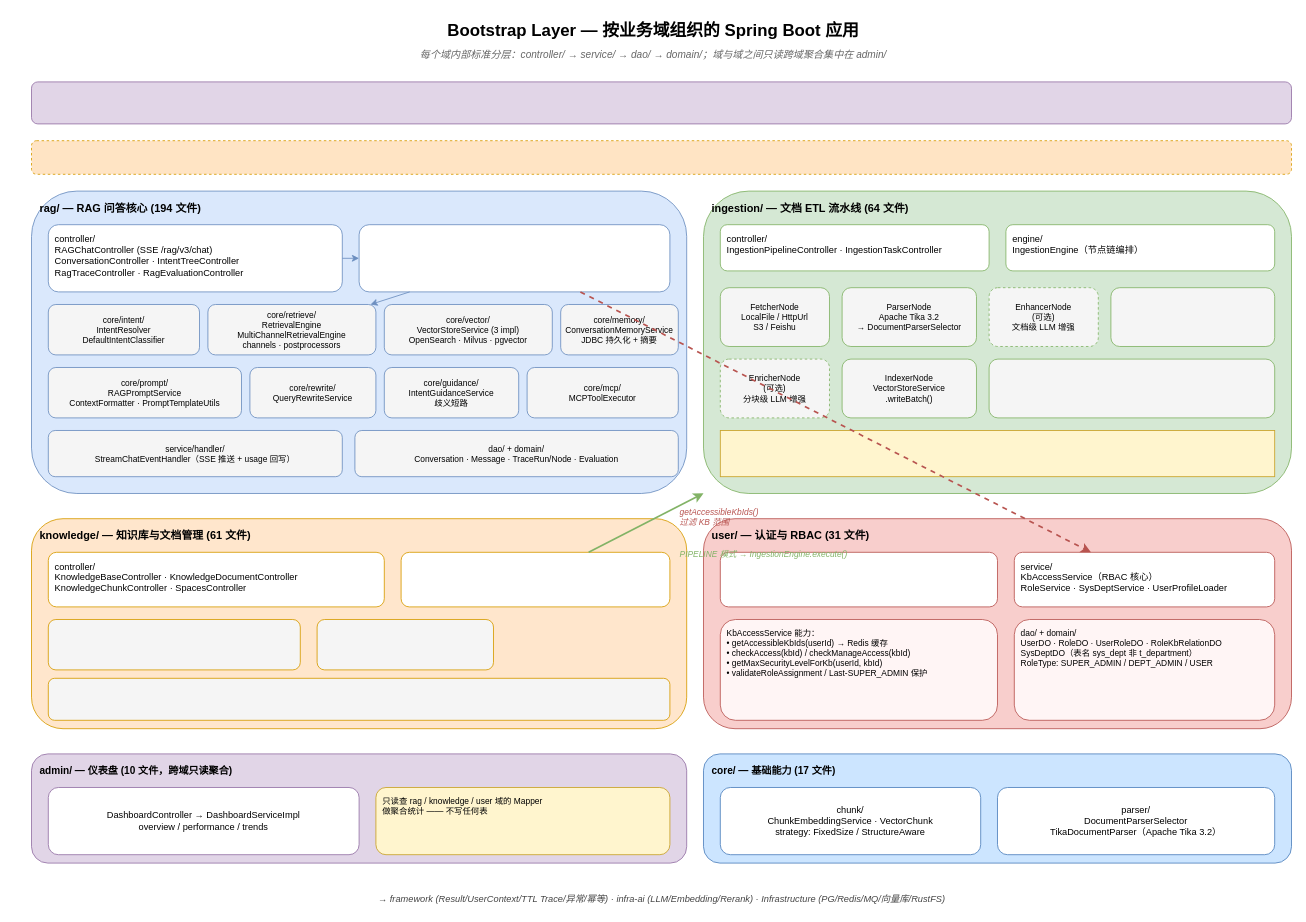
Image size: 1306x922. Some labels were removed from this diagram. Each missing label, with the centre of its shape:
AOP 切面：ChatRateLimitAspect（限流 + traceId 生成 + TTL 上下文） · RagTraceAspect（节点计时）: (661,157)
ChunkerNode ChunkingStrategy + EmbeddingService.batch: (1192,316)
controller/ AuthController · UserController RoleController · SysDeptController: (858,579)
dao/ + domain/ KnowledgeBaseDO · KnowledgeDocumentDO · KnowledgeChunkDO: (358,698)
domain/ IngestionContext（贯穿节点的状态） PipelineDefinition · NodeConfig: (1131,388)
Fetcher → Parser → [Enhancer] → Chunker → [Enricher] → Indexer（顺序执行，配置驱动）: (997,453)
Inbound — Spring MVC · SseEmitter · SaInterceptor (checkLogin only): (661,102)
mq/ KnowledgeDocumentChunkConsumer (RocketMQ 事务消息 + 幂等消费): (173,644)
schedule/ URL 源定时重分块（Redisson 分布式锁）: (405,644)
service/ KnowledgeDocumentServiceImpl CHUNK 模式 / PIPELINE 模式: (535,579)
service/ RAGChatServiceImpl.streamChat() （主编排：记忆→改写→意图→检索→Prompt→生成）: (514,258)
